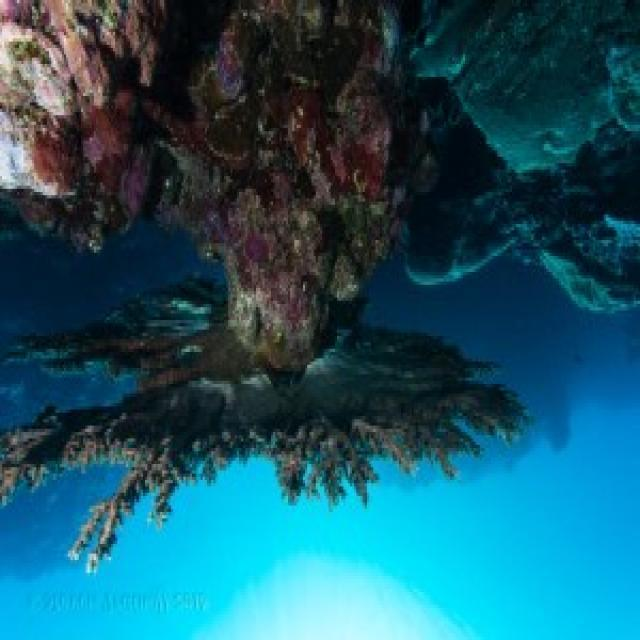Bleached: (6, 13, 76, 103), (3, 105, 59, 199), (601, 208, 640, 259)
Healthy: (1, 397, 535, 571), (225, 1, 396, 353), (76, 104, 224, 239)
